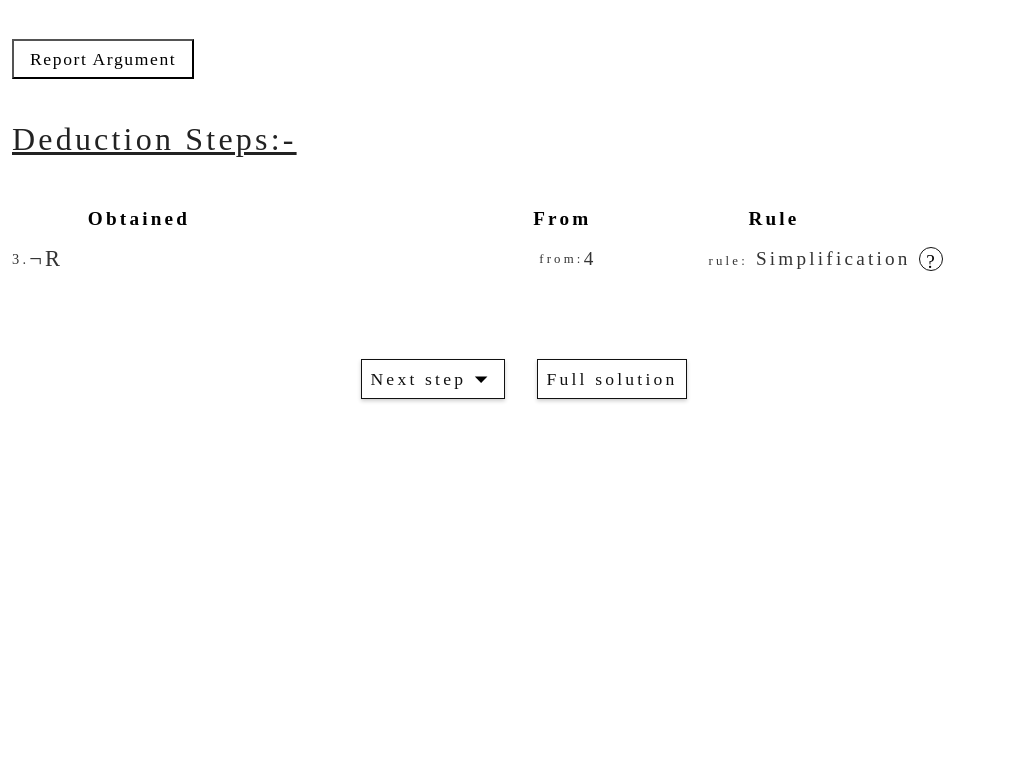
Test: Symbolic Logic Deduction Steps › checks for deduction steps on click
Click the button with aria-label "show entire solution" at (612, 379), box [538, 359, 687, 399]
(page scrolled)
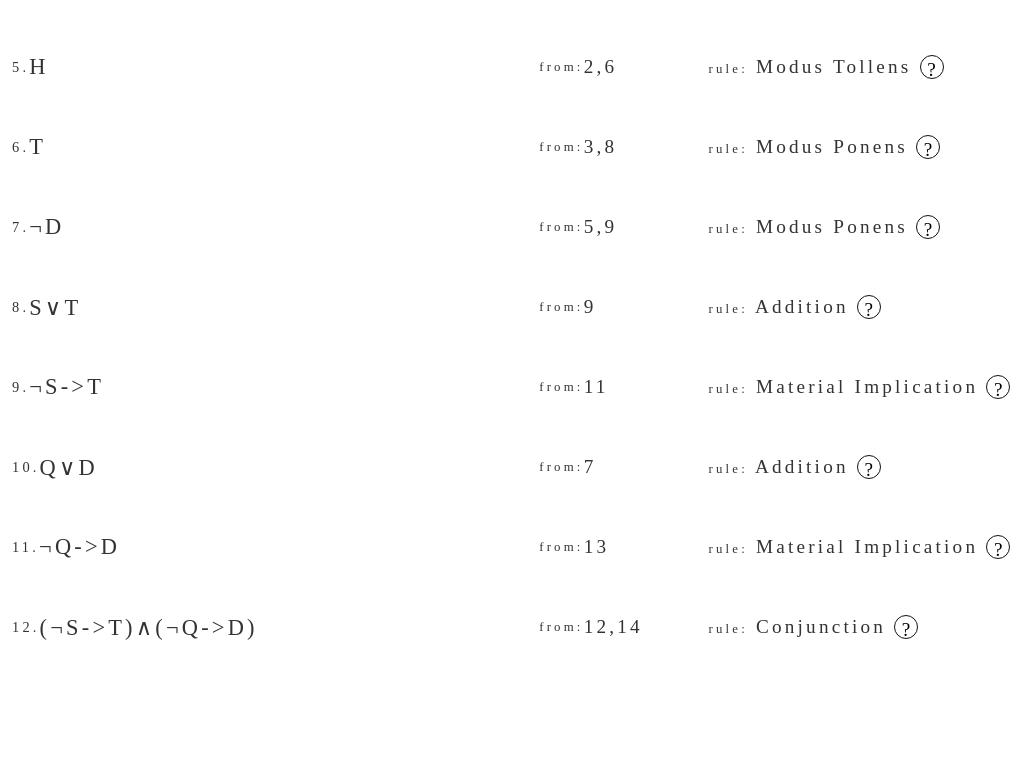
Now the text "(¬S->T)∧(¬Q->D)" is shown, box [40, 614, 258, 640]
Now the row "5. H from: 2,6 rule: Modus Tollens ?" is shown, box [12, 47, 1028, 87]
Now the row "6. T from: 3,8 rule: Modus Ponens ?" is shown, box [12, 127, 1028, 167]
